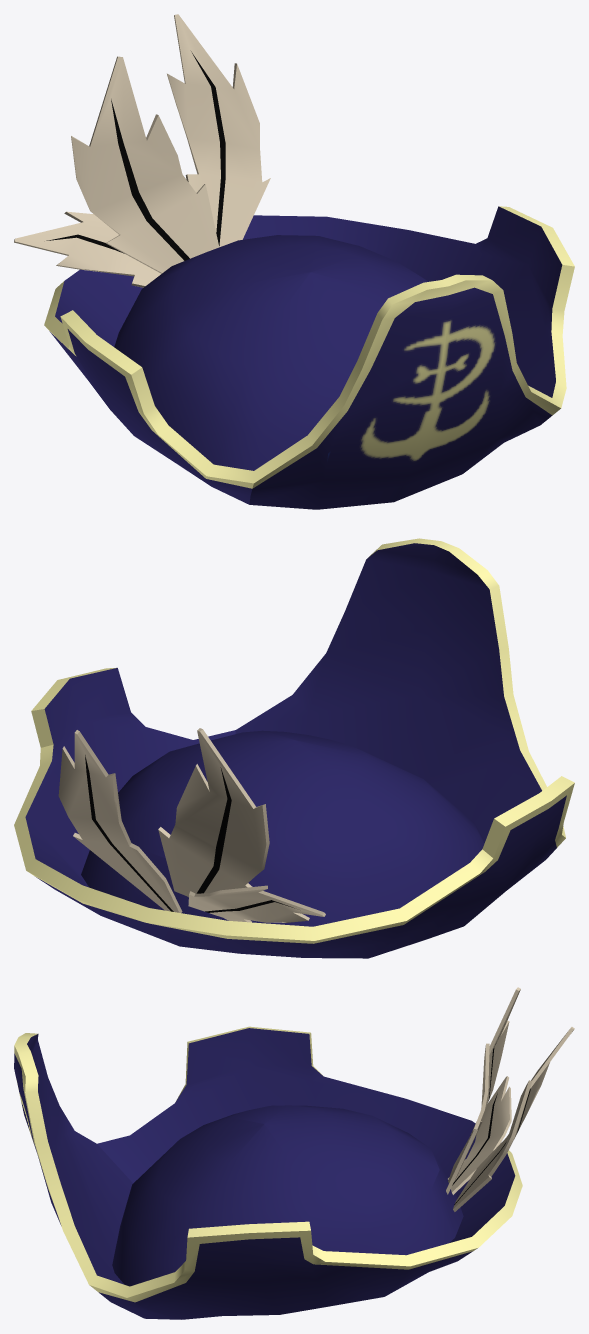
Rendered from Asset_PirateHat_01.fbx.
3 renders of one model, top to bottom at view 1: azimuth 30°, elevation 25°; view 2: azimuth 150°, elevation 25°; view 3: azimuth 270°, elevation 25°, orthographic. The views are drawn at different scales.
Visible parts, largest first — view 1: Asset_PirateHat_01; view 2: Asset_PirateHat_01; view 3: Asset_PirateHat_01.
Boxes of the visible parts, box(x1,y1,x2,y2) form: Asset_PirateHat_01: box(14, 14, 574, 509); Asset_PirateHat_01: box(14, 538, 574, 958); Asset_PirateHat_01: box(14, 987, 574, 1319).
Size of the model in its own units: 78.78 by 47.43 by 90.44.
